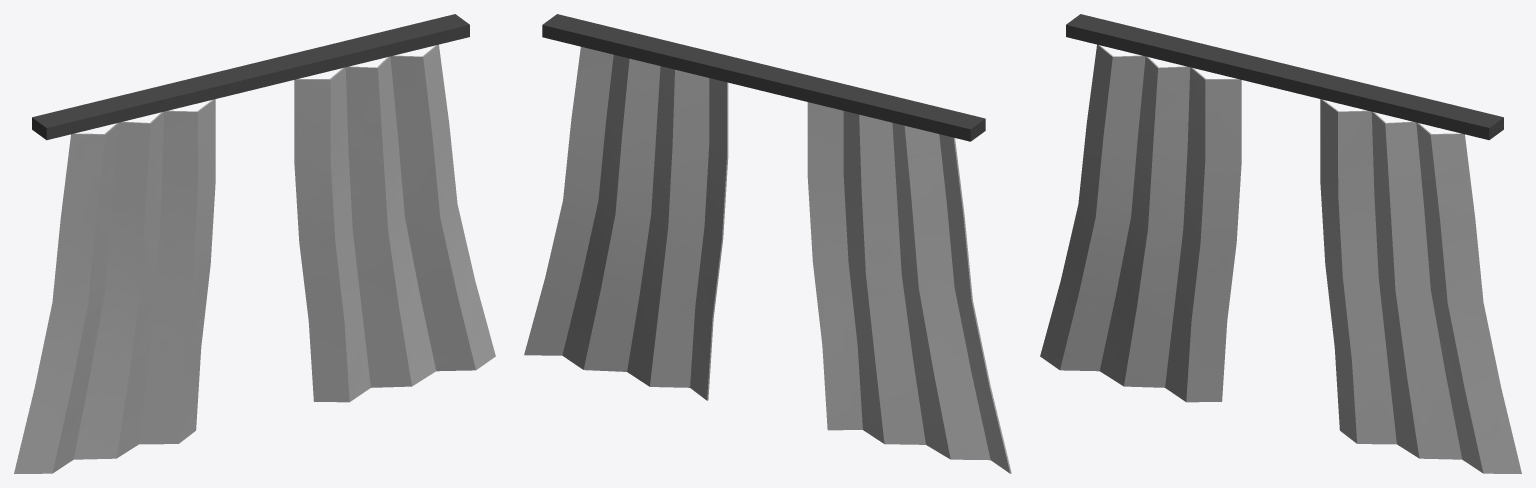
File: Curtain_02_01.fbx
3 renders of one model, left to right at view 1: azimuth 30°, elevation 25°; view 2: azimuth 150°, elevation 25°; view 3: azimuth 330°, elevation 25°, orthographic.
Parts seen in each view (by area): view 1: Curtain_02_01; view 2: Curtain_02_01; view 3: Curtain_02_01.
Part boxes in pixels (bbox=[...]): Curtain_02_01: bbox=[14, 14, 495, 473]; Curtain_02_01: bbox=[524, 14, 1011, 473]; Curtain_02_01: bbox=[1040, 14, 1521, 473].
Size of the model in its own units: 1.87 by 1.27 by 0.1387.
